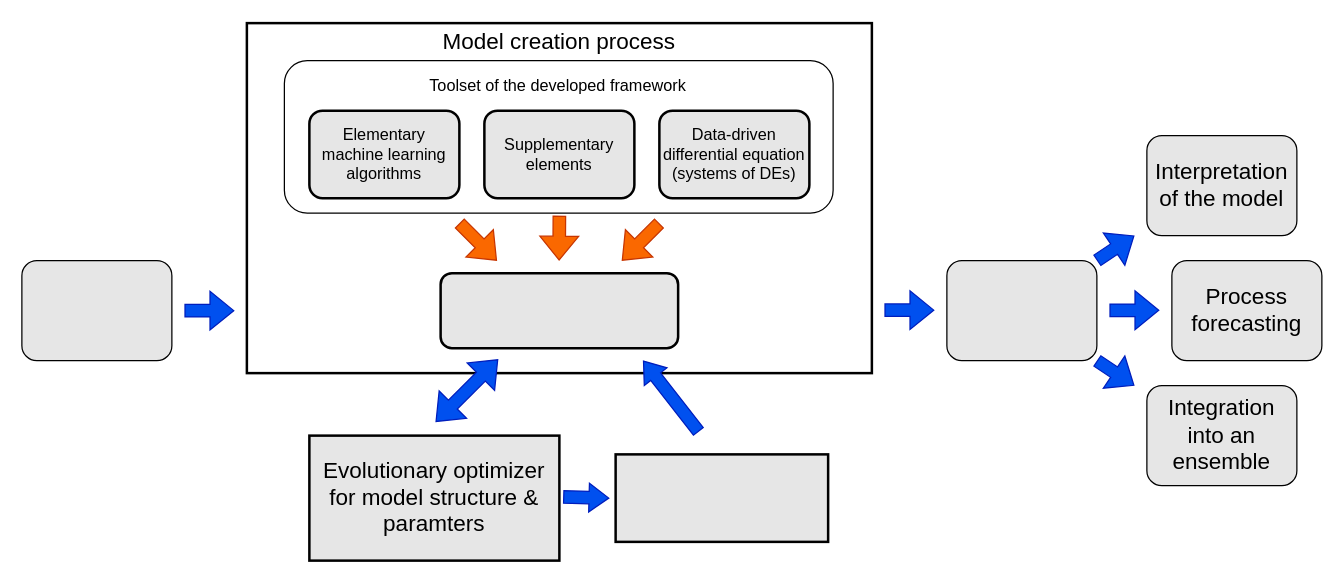
Some shapes in this 1344 by 583 pixel diagram are drawn without their labels. The shapes that lost their labels are listed below. From the top down, each one's centre as x and y in pixels, then its label:
At pixel 96 310: "Algorithm input data".
At pixel 559 310: "Composite model".
At pixel 1021 310: "Result of the modelling".
At pixel 721 497: "Models cache".
